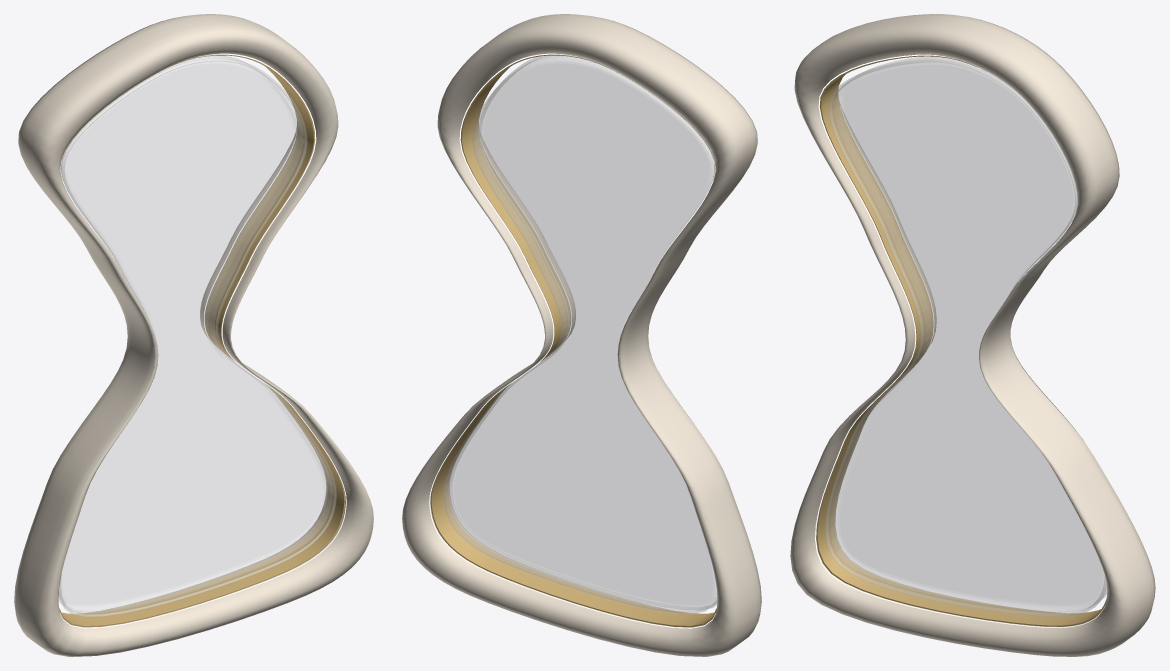
The model's file is hourglass.glb.
The picture shows the model from 3 angles, left to right: view 1: azimuth 30°, elevation 25°; view 2: azimuth 150°, elevation 25°; view 3: azimuth 330°, elevation 25°; orthographic projection.
Parts seen in each view (by area): view 1: Slab_Glass.003, Fixed_GlassFrame.003, Fixed_ChampagneReveal.003, Slab_PolishedEdge.003, Fixed_InnerLight_Front.003; view 2: Slab_Glass.003, Fixed_GlassFrame.003, Fixed_ChampagneReveal.003, Slab_PolishedEdge.003, Fixed_InnerLight_Back.003; view 3: Slab_Glass.003, Fixed_GlassFrame.003, Fixed_ChampagneReveal.003, Slab_PolishedEdge.003, Fixed_InnerLight_Front.003.
Boxes of the visible parts, bbox=[...] form: Slab_Glass.003: bbox=[59, 56, 332, 613]; Fixed_GlassFrame.003: bbox=[14, 14, 373, 656]; Fixed_ChampagneReveal.003: bbox=[59, 53, 345, 627]; Slab_PolishedEdge.003: bbox=[59, 58, 336, 617]; Fixed_InnerLight_Front.003: bbox=[60, 53, 346, 628]; Slab_Glass.003: bbox=[443, 56, 716, 613]; Fixed_GlassFrame.003: bbox=[402, 14, 761, 656]; Fixed_ChampagneReveal.003: bbox=[430, 53, 716, 627]; Slab_PolishedEdge.003: bbox=[449, 56, 717, 610]; Fixed_InnerLight_Back.003: bbox=[429, 53, 715, 628]; Slab_Glass.003: bbox=[829, 56, 1106, 613]; Fixed_GlassFrame.003: bbox=[790, 14, 1155, 656]; Fixed_ChampagneReveal.003: bbox=[816, 54, 1106, 626]; Slab_PolishedEdge.003: bbox=[825, 59, 1106, 616]; Fixed_InnerLight_Front.003: bbox=[815, 54, 1104, 627].
Size of the model in its own units: 1.97 by 3.36 by 0.3539.
